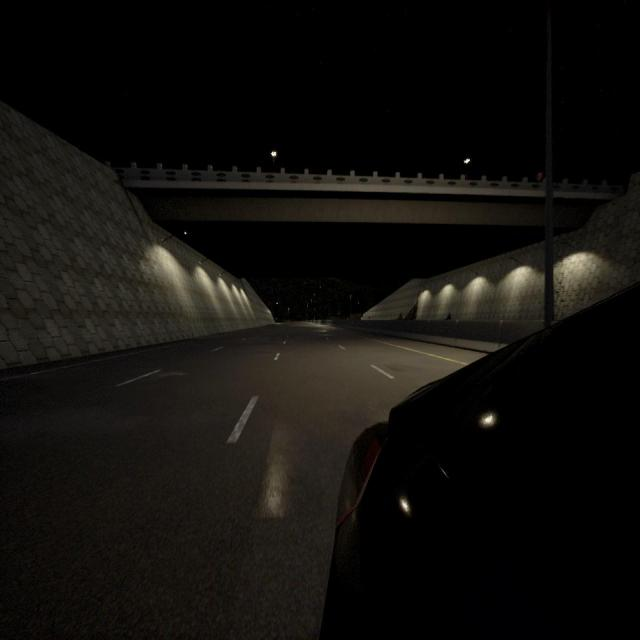Vehicle: (319, 280, 639, 640)
